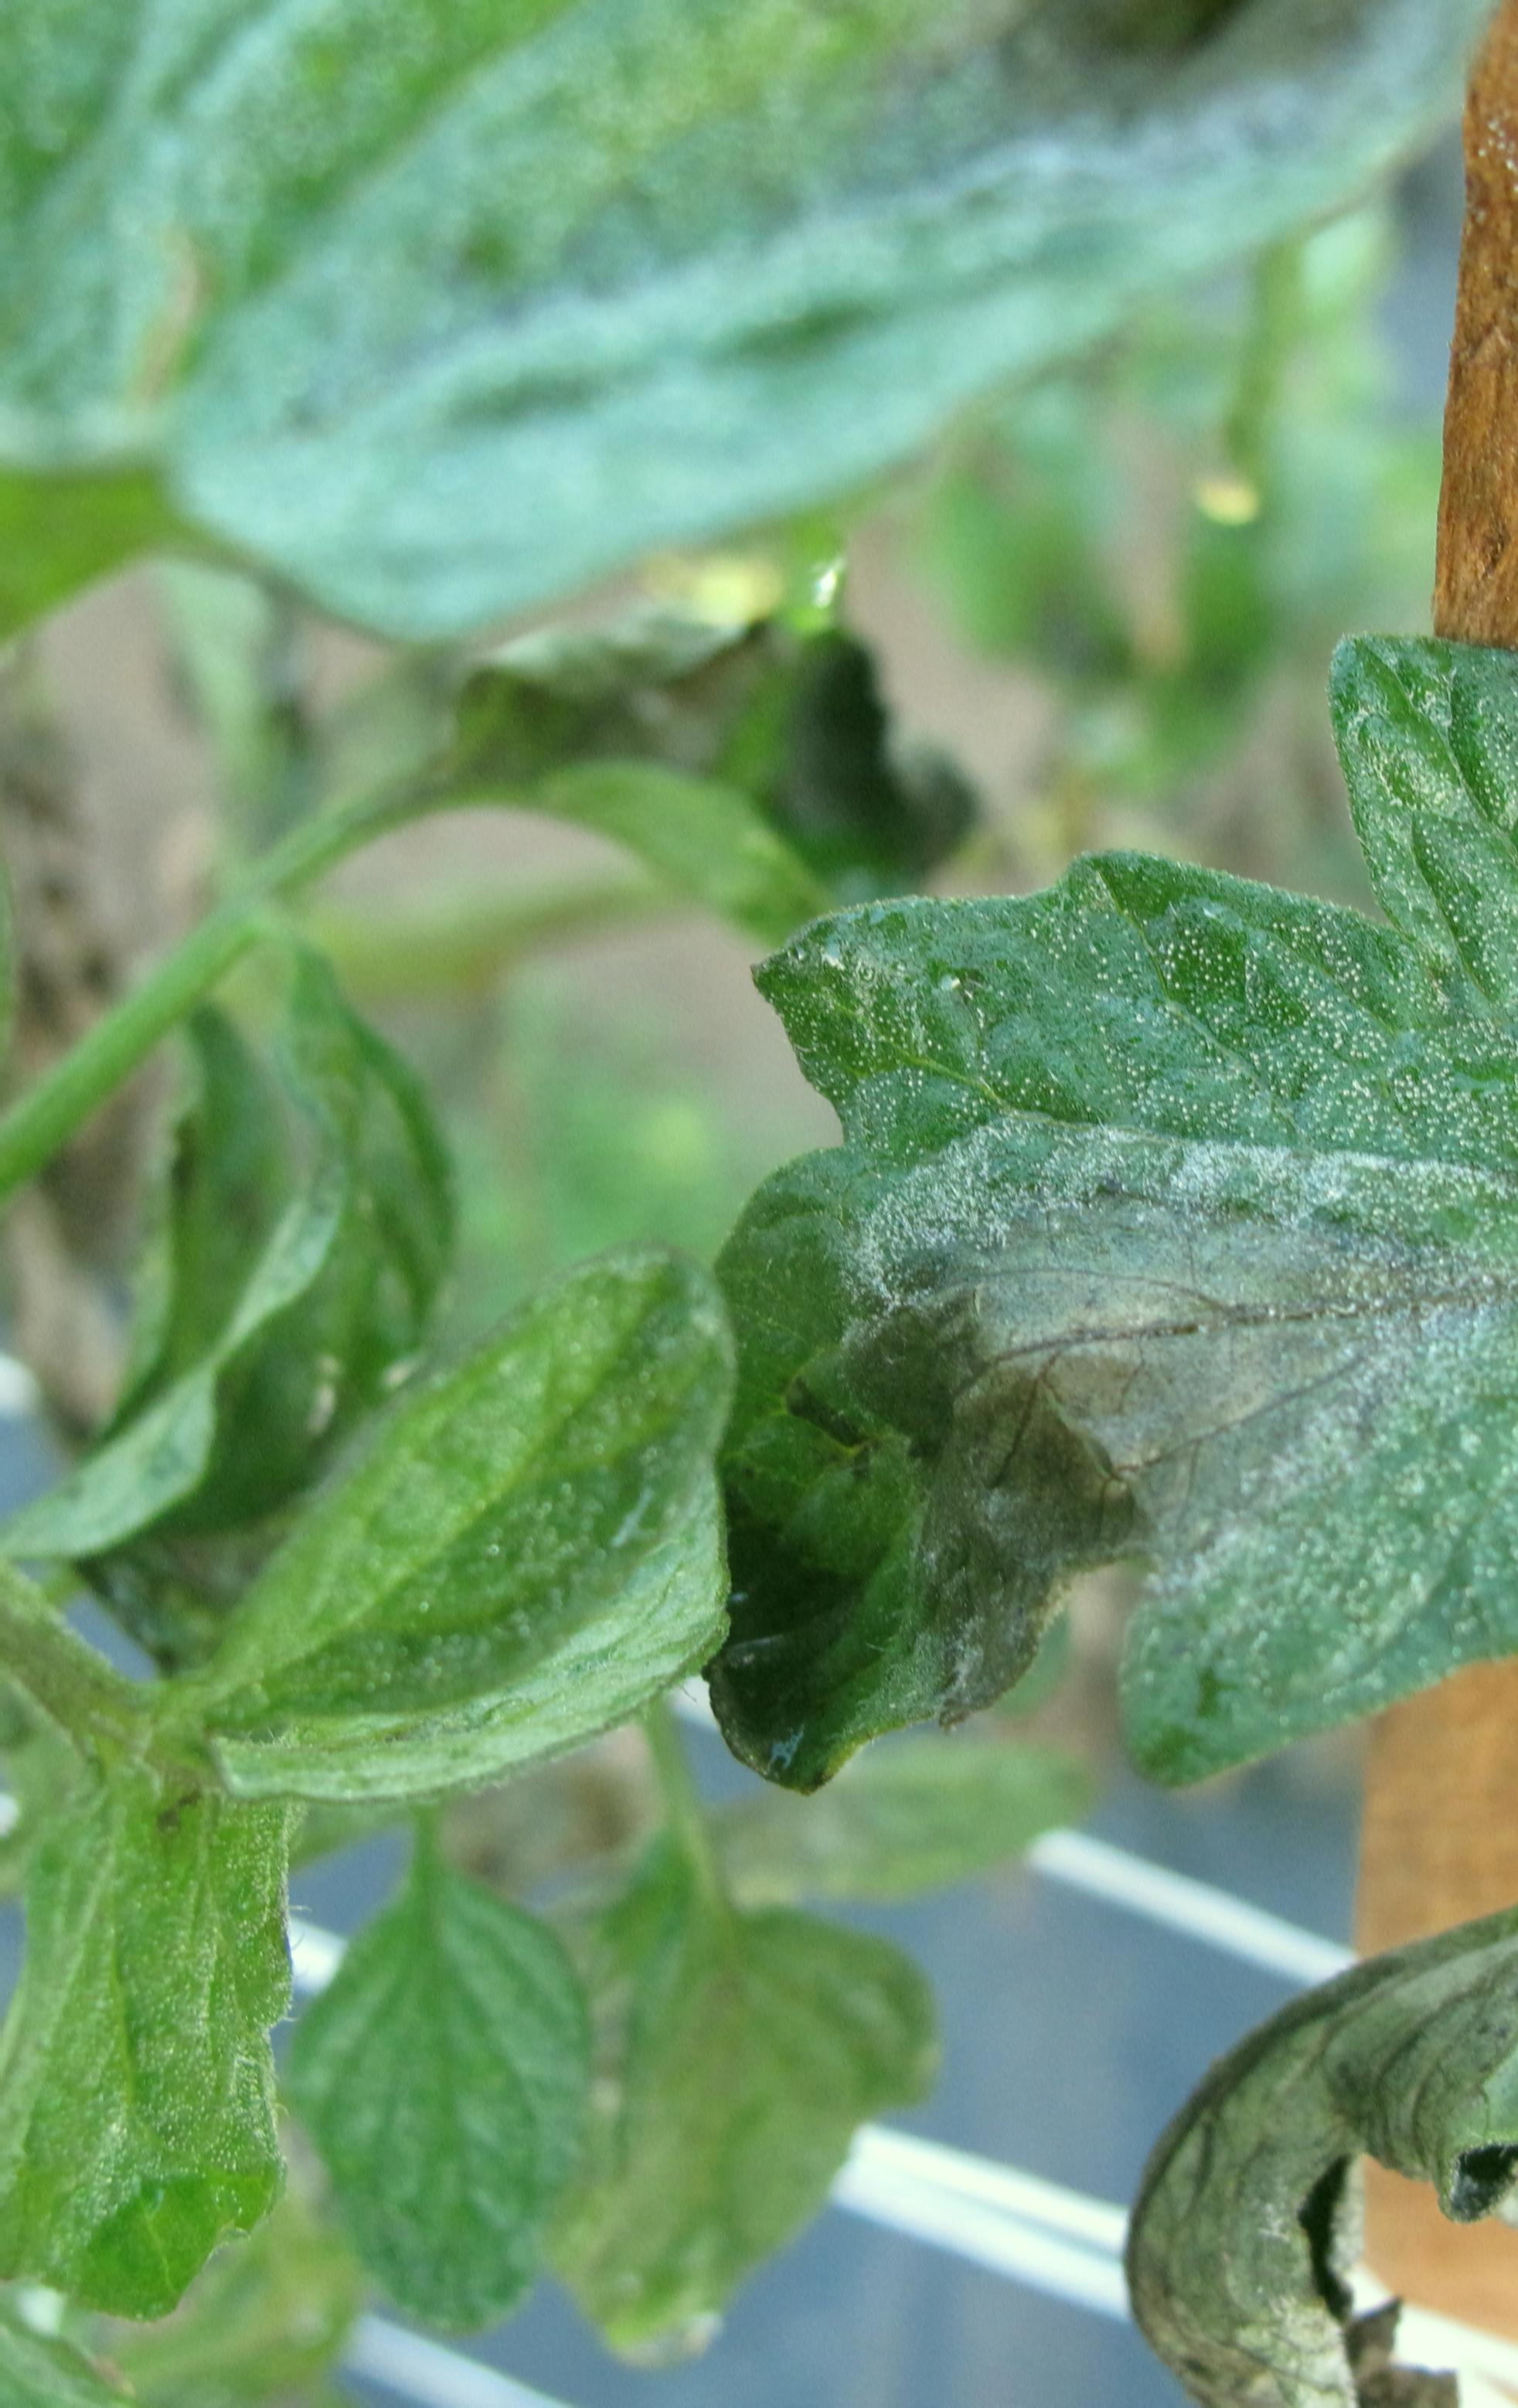Tomato leaf late blight: (484, 607, 1518, 1948)
